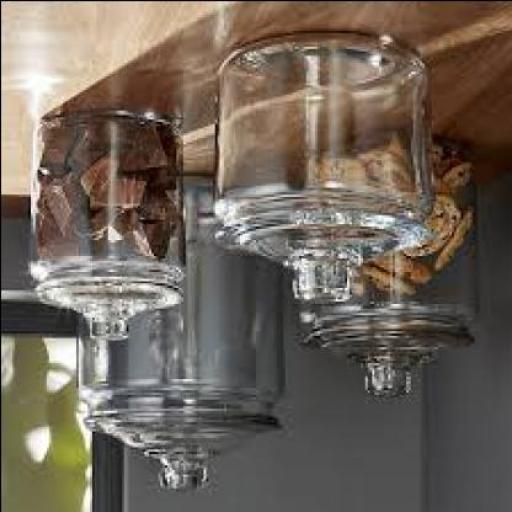biodegradable: (396, 198, 454, 255), (32, 175, 74, 237), (425, 209, 467, 266), (70, 152, 121, 194), (58, 127, 100, 173), (84, 122, 138, 157), (89, 177, 139, 212), (138, 144, 173, 192), (36, 130, 71, 178), (374, 154, 416, 194), (66, 194, 105, 236), (355, 266, 409, 296), (319, 160, 367, 192), (371, 258, 425, 284), (130, 230, 173, 262), (125, 134, 162, 169), (136, 198, 175, 228), (437, 168, 469, 196), (93, 216, 127, 242), (421, 157, 453, 184), (32, 233, 66, 252)
glass: (72, 171, 282, 491), (211, 32, 433, 305), (289, 141, 478, 401), (27, 114, 185, 341)
